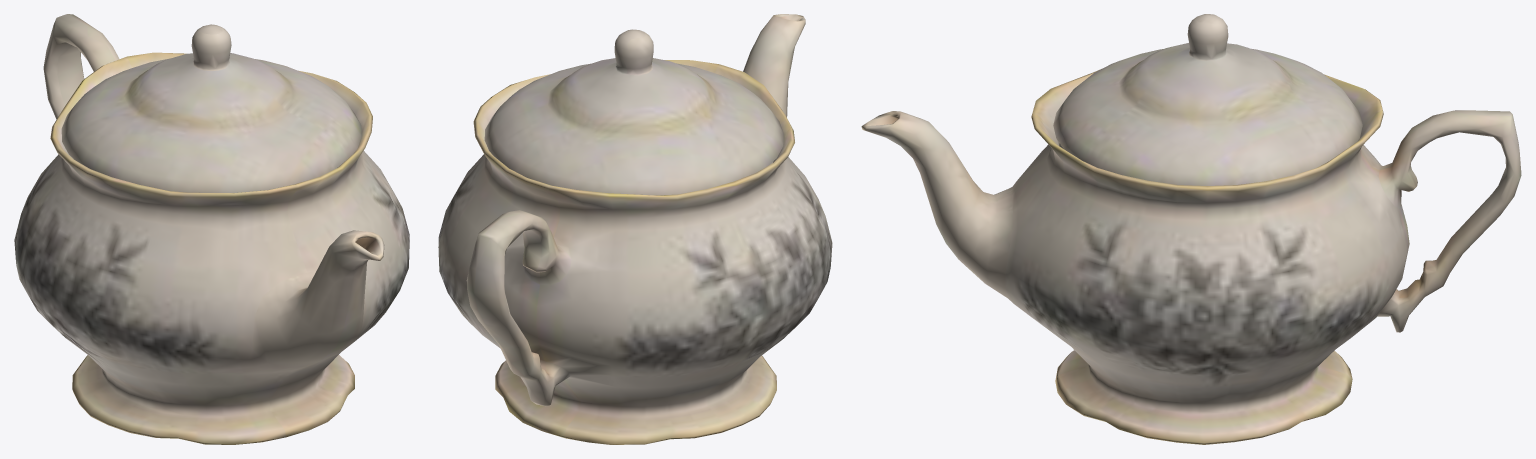
Rendered from teapot_white.gltf.
3 renders of one model, left to right at view 1: azimuth 30°, elevation 25°; view 2: azimuth 150°, elevation 25°; view 3: azimuth 270°, elevation 25°, orthographic. The views are drawn at different scales.
Parts seen in each view (by area): view 1: tea_set_01_teapot_01, tea_set_01_teapot_01_lid; view 2: tea_set_01_teapot_01, tea_set_01_teapot_01_lid; view 3: tea_set_01_teapot_01, tea_set_01_teapot_01_lid.
Boxes of the visible parts, left/top/right/bottom form: tea_set_01_teapot_01: left=14, top=14, right=409, bottom=444; tea_set_01_teapot_01_lid: left=61, top=24, right=361, bottom=192; tea_set_01_teapot_01: left=438, top=14, right=832, bottom=444; tea_set_01_teapot_01_lid: left=484, top=29, right=783, bottom=195; tea_set_01_teapot_01: left=861, top=69, right=1521, bottom=444; tea_set_01_teapot_01_lid: left=1053, top=14, right=1362, bottom=185.
Bounding box in the file's own units: 0.165 × 0.1644 × 0.2677.
1 material, 1 textured.
